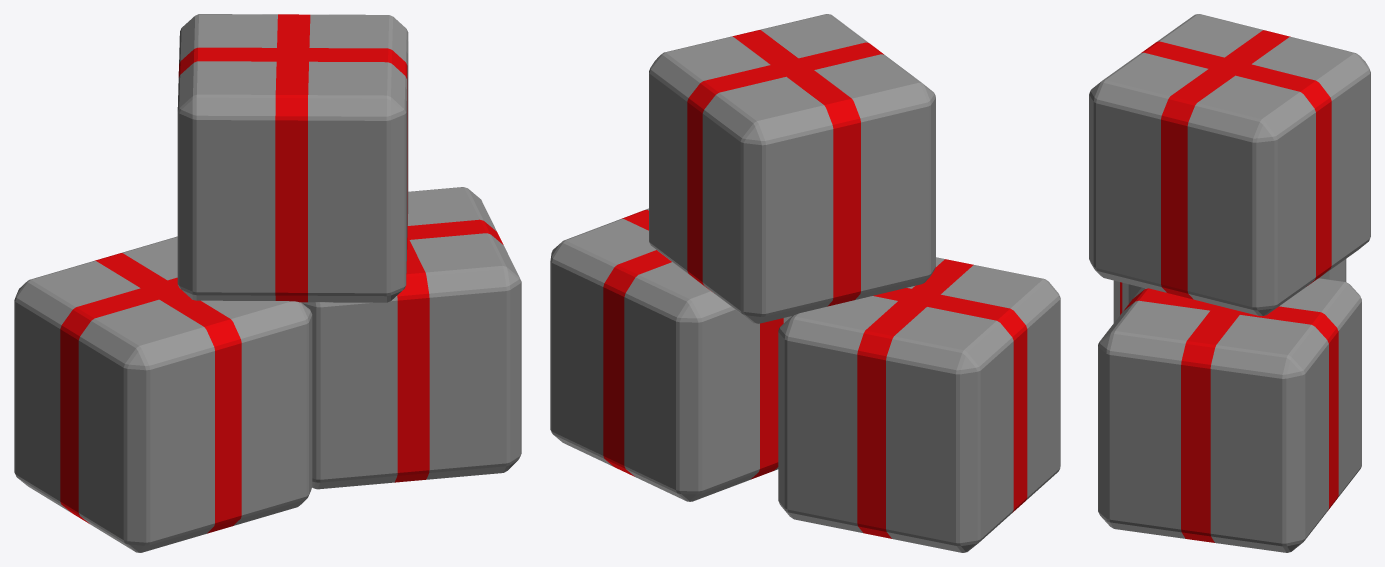
File: Kistenhindernis.fbx
The picture shows the model from 3 angles, left to right: view 1: azimuth 30°, elevation 25°; view 2: azimuth 150°, elevation 25°; view 3: azimuth 270°, elevation 25°; orthographic projection. The views are drawn at different scales.
Parts seen in each view (by area): view 1: Cube.001, Cube.003, Cube.004; view 2: Cube.003, Cube.001, Cube.004; view 3: Cube.003, Cube.004, Cube.001.
Part boxes in pixels (x1,y1,x2,y2): Cube.001: (14,236,312,552); Cube.003: (177,14,408,302); Cube.004: (301,187,521,489); Cube.003: (649,14,935,323); Cube.001: (778,257,1060,552); Cube.004: (550,208,791,501); Cube.003: (1089,14,1370,315); Cube.004: (1098,278,1361,552); Cube.001: (1113,259,1346,322).
Bounding box in the file's own units: 279 × 242 × 158.
